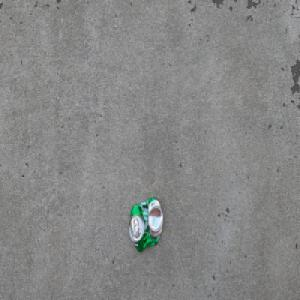SodaCan: (127, 196, 163, 254)
